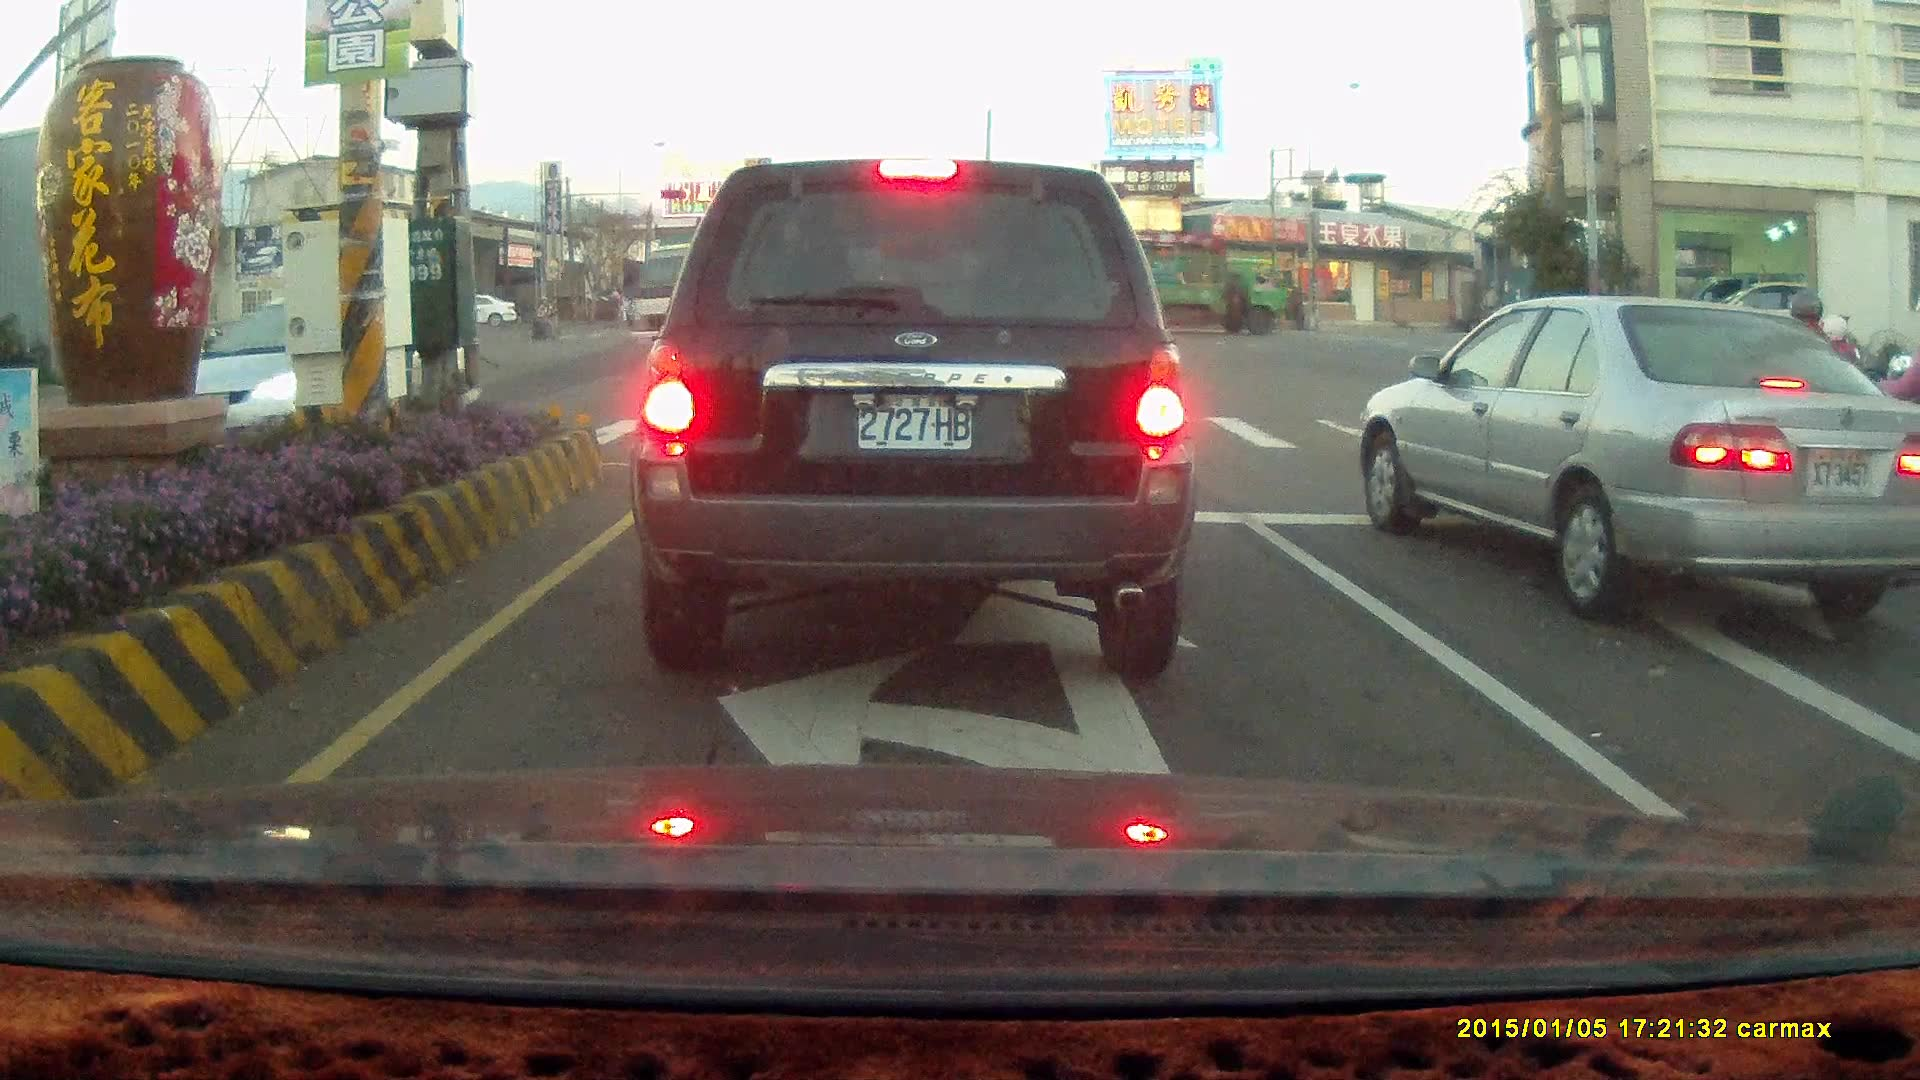rider: (528, 291, 560, 339)
vehicle: (626, 156, 1195, 680), (1350, 293, 1920, 619), (1366, 297, 1917, 606), (628, 242, 870, 383), (1664, 275, 1817, 370), (1119, 254, 1286, 341), (1896, 493, 1920, 836)
